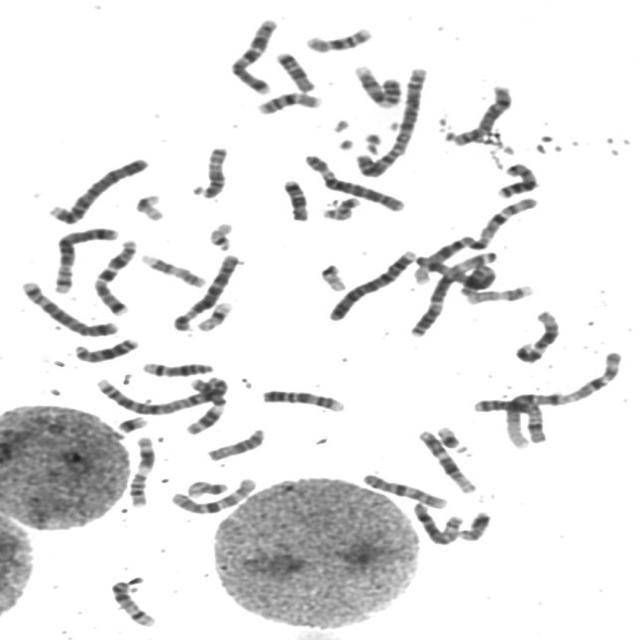A1: (496, 347, 626, 449), (408, 191, 541, 287)
A2: (349, 63, 430, 179), (89, 368, 232, 416)
A3: (406, 247, 502, 338), (412, 255, 497, 296)
B4: (41, 152, 150, 226), (323, 245, 419, 322)
B5: (15, 275, 121, 338), (46, 221, 122, 296)
C10: (164, 472, 260, 517), (356, 468, 451, 510)
C11: (177, 372, 230, 436), (123, 431, 157, 508)
C12: (412, 425, 480, 494), (509, 306, 563, 364)
C6: (298, 148, 408, 214), (167, 249, 243, 333)
C7: (224, 13, 280, 96), (87, 235, 141, 316)
C8: (445, 80, 515, 148), (407, 497, 466, 546)
C9: (348, 59, 404, 109), (256, 384, 348, 413)
D13: (68, 333, 141, 364), (491, 157, 541, 200)
D14: (105, 576, 159, 628), (136, 356, 217, 378)
D15: (186, 142, 231, 199), (201, 424, 268, 462)
E16: (300, 21, 376, 54), (251, 87, 324, 116)
E17: (135, 248, 209, 288), (460, 279, 536, 306)
E18: (270, 47, 317, 93), (277, 174, 312, 222)
F19: (191, 296, 236, 332), (129, 188, 167, 222)
F20: (317, 192, 363, 221), (180, 475, 230, 499)
G21: (431, 421, 470, 453), (111, 410, 151, 435)
G22: (315, 259, 350, 292), (203, 218, 236, 252)
X: (468, 399, 552, 444)
Y: (455, 506, 493, 542)
